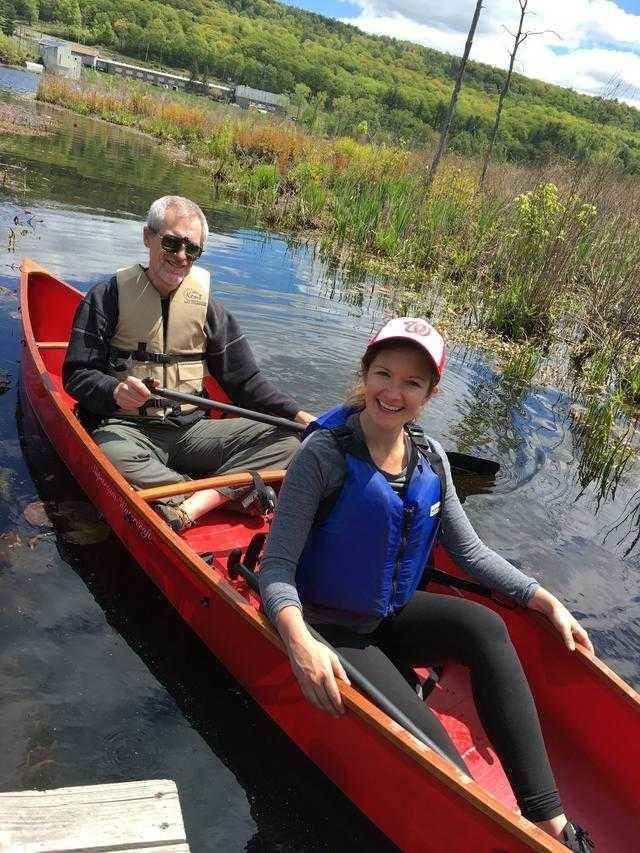kayak: (9, 261, 639, 849), (1, 778, 191, 853)
